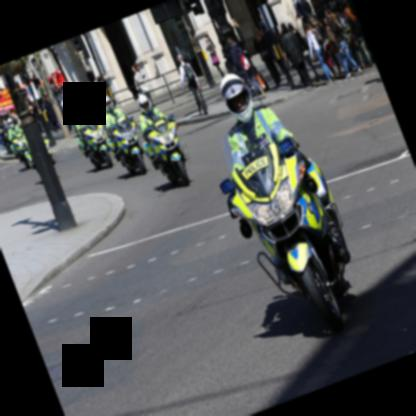backpack: (232, 47, 249, 70), (183, 64, 196, 82), (313, 30, 324, 46)
handbag: (342, 23, 352, 45), (212, 49, 220, 66), (323, 38, 329, 52)
